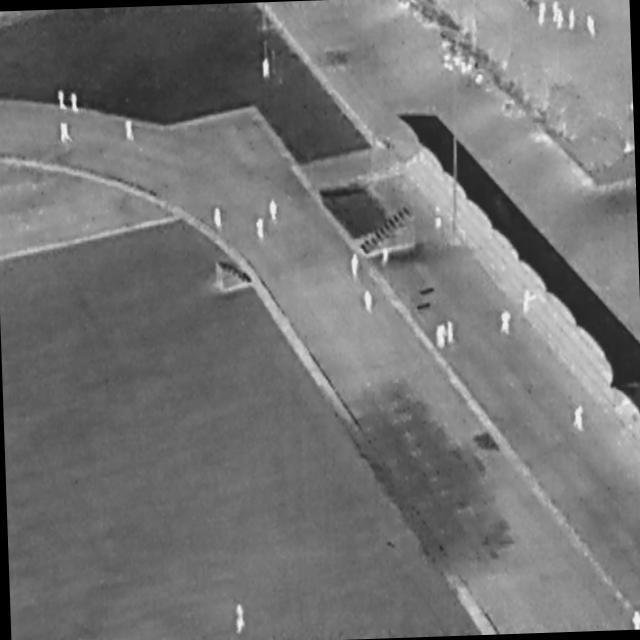person: (573, 406, 586, 432), (235, 604, 246, 634), (436, 325, 448, 350), (587, 13, 598, 39), (501, 311, 512, 336), (58, 90, 69, 111), (125, 119, 135, 142), (351, 254, 360, 279), (568, 7, 577, 32), (257, 218, 266, 242), (447, 320, 456, 344), (434, 207, 443, 231), (364, 290, 373, 314), (538, 2, 547, 26), (60, 123, 70, 144), (270, 199, 279, 222), (214, 207, 223, 230), (631, 610, 640, 630), (382, 248, 391, 268), (263, 58, 271, 79), (557, 9, 565, 30), (552, 2, 560, 23), (71, 92, 79, 112)
